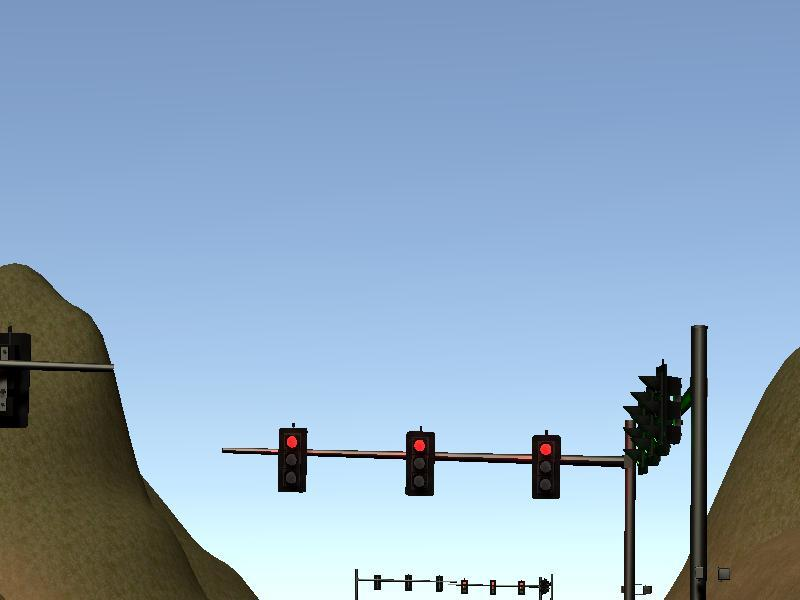Red: (533, 434, 560, 500), (278, 428, 305, 492), (407, 432, 434, 495)
